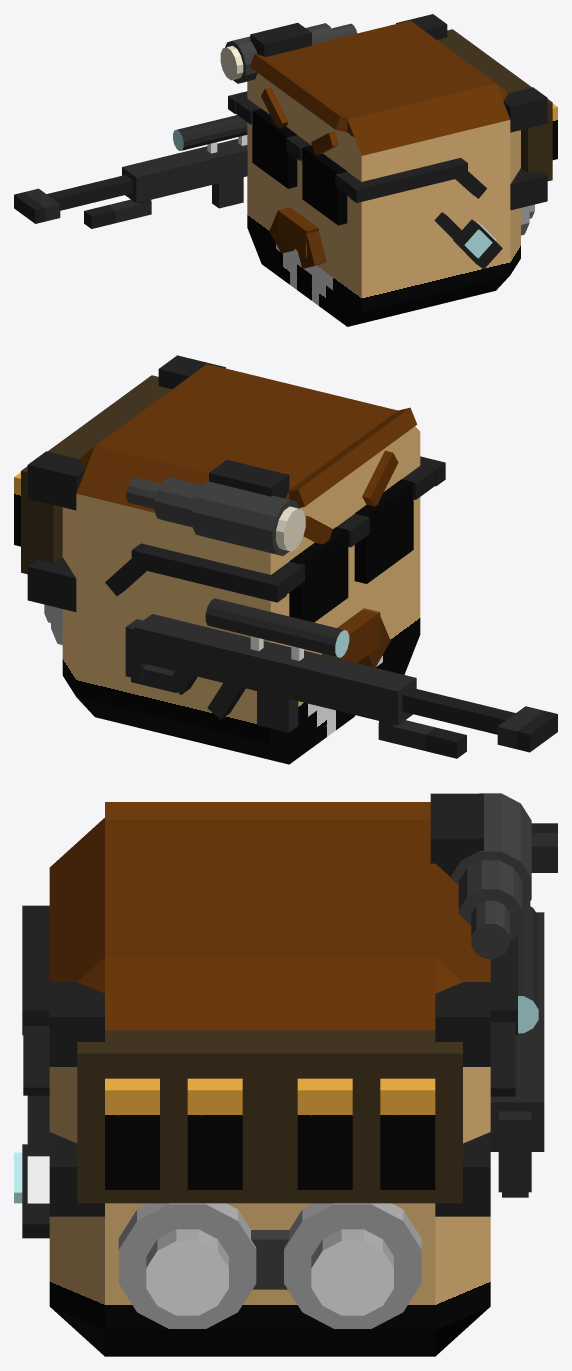
Rendered from playerHoldingsniper.gltf.
The picture shows the model from 3 angles, top to bottom: view 1: azimuth 30°, elevation 25°; view 2: azimuth 150°, elevation 25°; view 3: azimuth 270°, elevation 25°; orthographic projection. The views are drawn at different scales.
Parts seen in each view (by area): view 1: beveled_cuboid, cylinder; view 2: beveled_cuboid, cylinder; view 3: beveled_cuboid, cylinder.
Boxes of the visible parts, box(x1,y1,x2,y2) form: beveled_cuboid: box(220, 14, 557, 326); cylinder: box(14, 115, 247, 228); beveled_cuboid: box(14, 355, 445, 764); cylinder: box(125, 598, 557, 758); beveled_cuboid: box(14, 793, 531, 1356); cylinder: box(490, 823, 557, 1197).
Size of the model in its own units: 2.15 by 1.06 by 1.23.
Materials: 5 (5 with a texture image).
